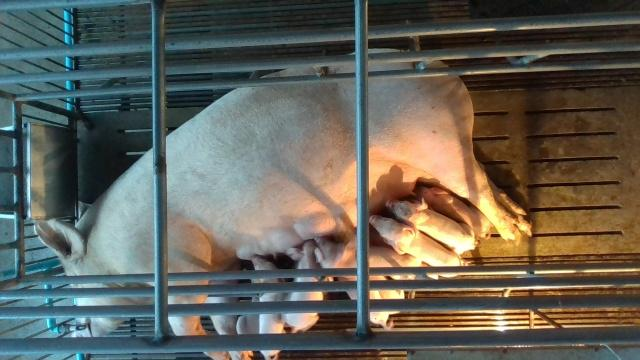piglet: (315, 235, 395, 330), (370, 215, 462, 278), (333, 240, 421, 299), (385, 200, 475, 253), (415, 185, 492, 240), (285, 238, 323, 334), (251, 254, 284, 360)
sow-sleep-lactate: (34, 48, 530, 360)
